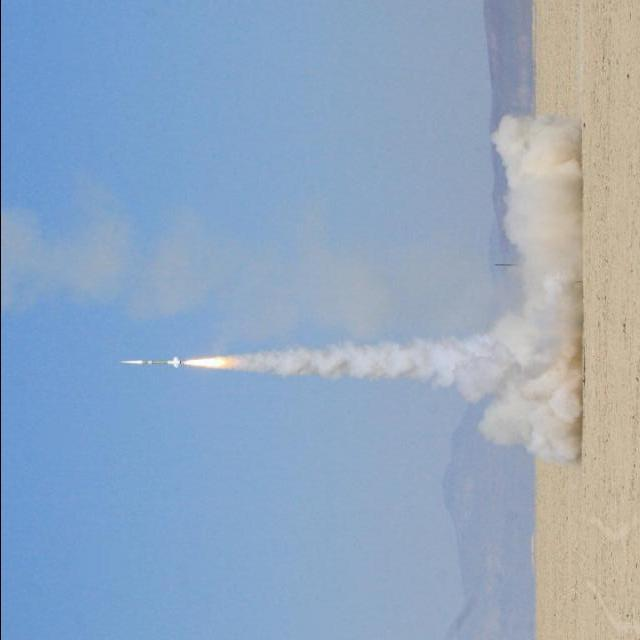missile: (119, 355, 181, 368)
